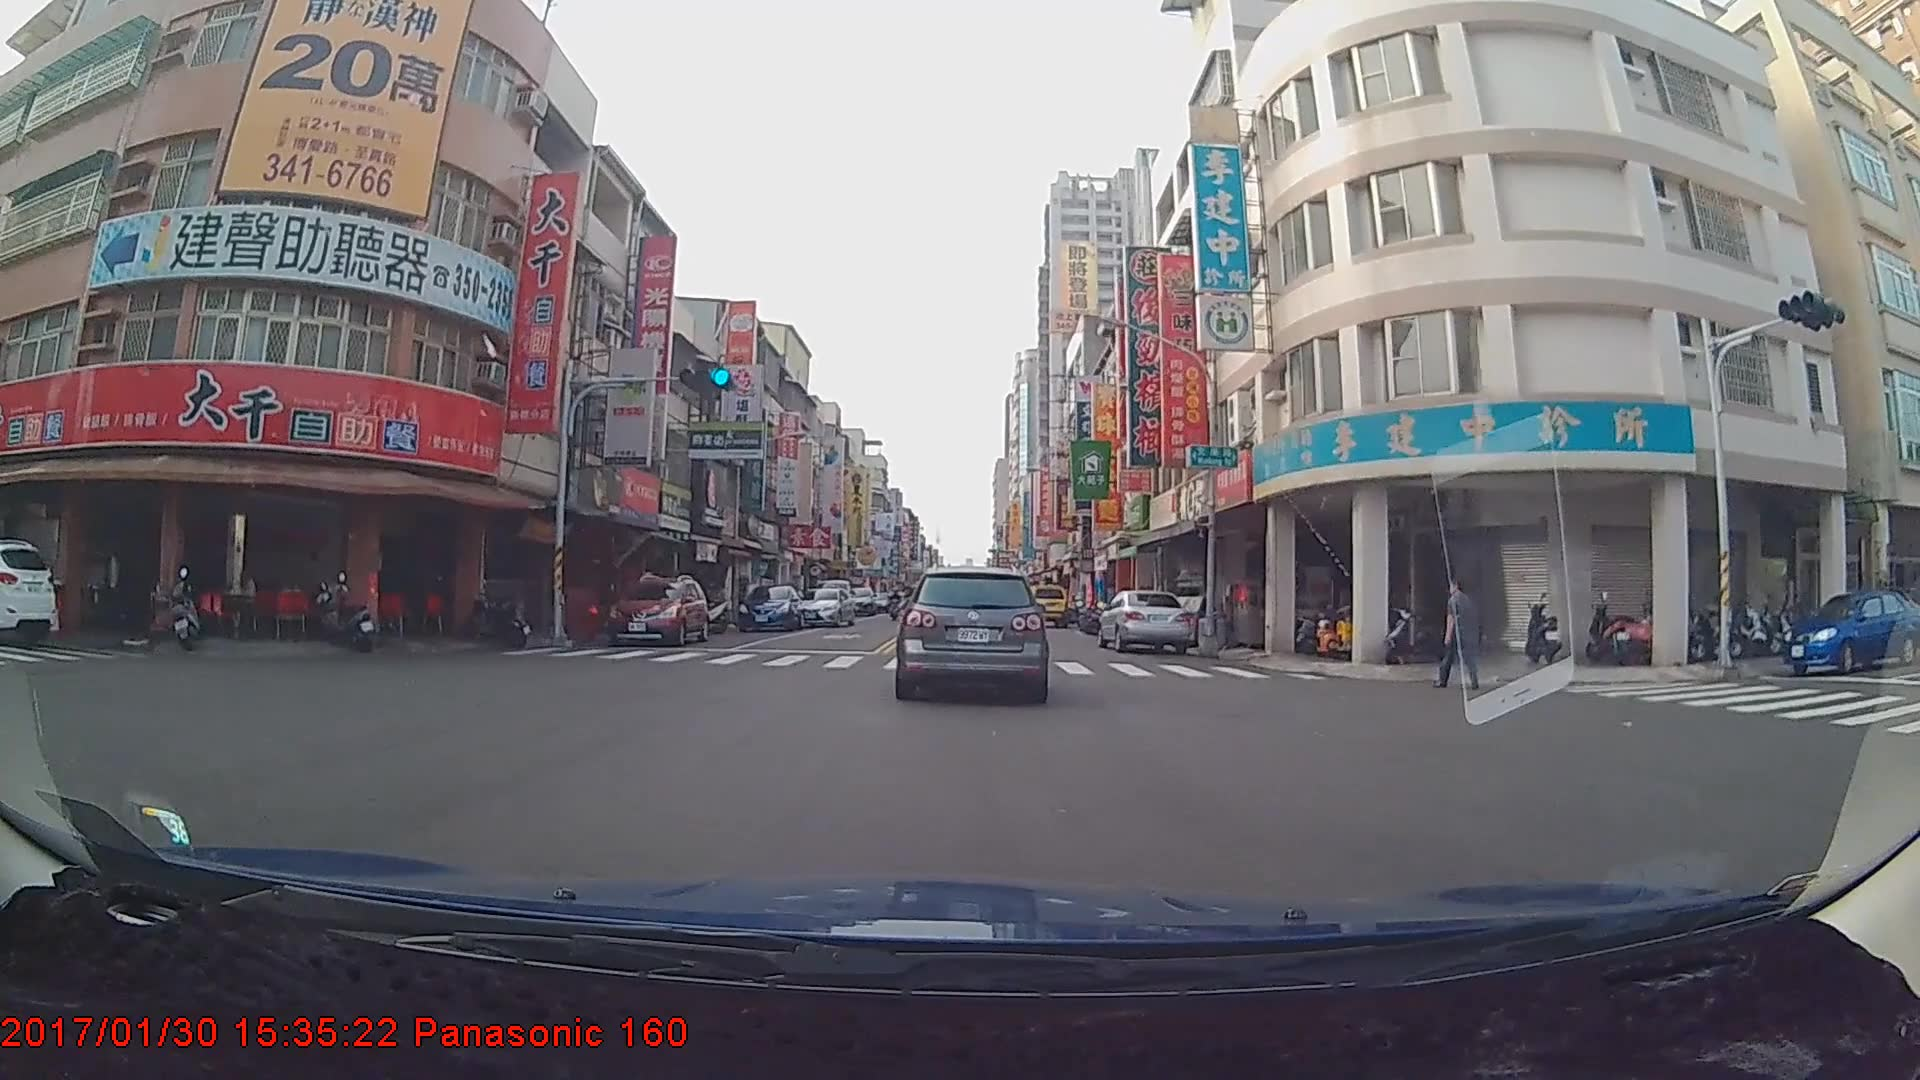pedestrian: (1437, 577, 1480, 696)
vehicle: (892, 566, 1049, 701), (1775, 588, 1920, 672), (608, 575, 709, 645), (0, 537, 59, 646), (1098, 589, 1192, 655), (733, 585, 803, 634), (797, 585, 855, 629), (1025, 581, 1069, 628)
